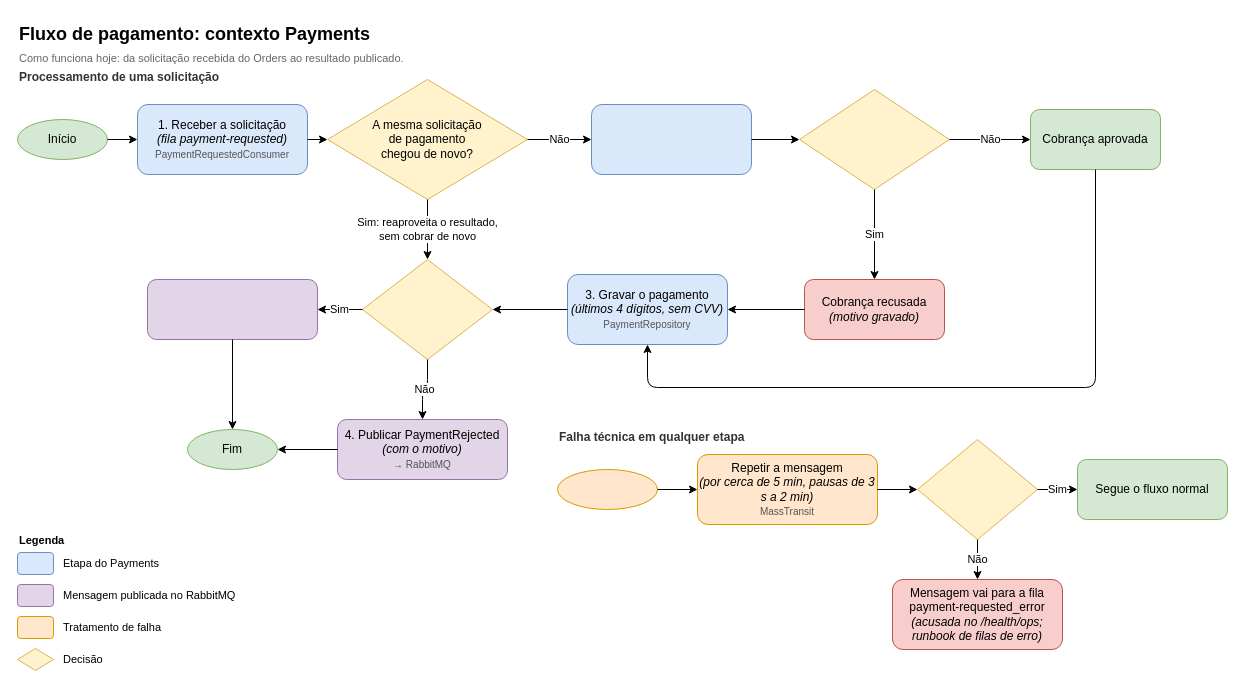
This 1245x688 diagram has some shape labels left out. The centre of each missing label's shape, as x and y in pixels:
"2. Cobrar no gateway (simulado) PaymentGateway" belongs at [671,139].
"4. Publicar PaymentApproved (com o id do pagamento) → RabbitMQ" belongs at [232,309].
"Aprovado?" belongs at [427,309].
"Cartão termina em 0000?" belongs at [874,139].
"Deu certo?" belongs at [977,489].
"Exceção" belongs at [607,489].
